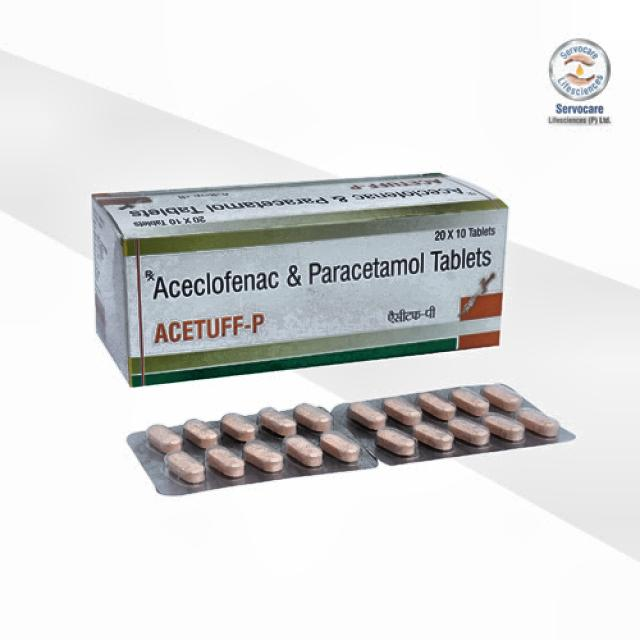Paracetamol: (140, 240, 495, 316)
